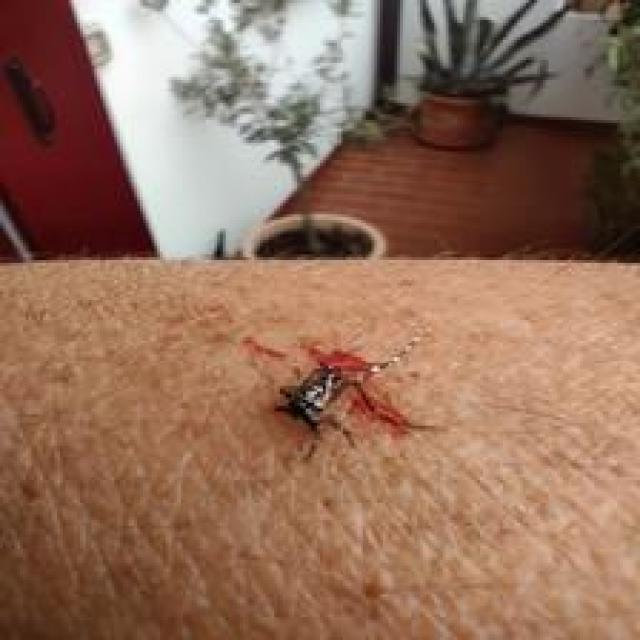Aedes albopictus: (238, 327, 438, 462)
